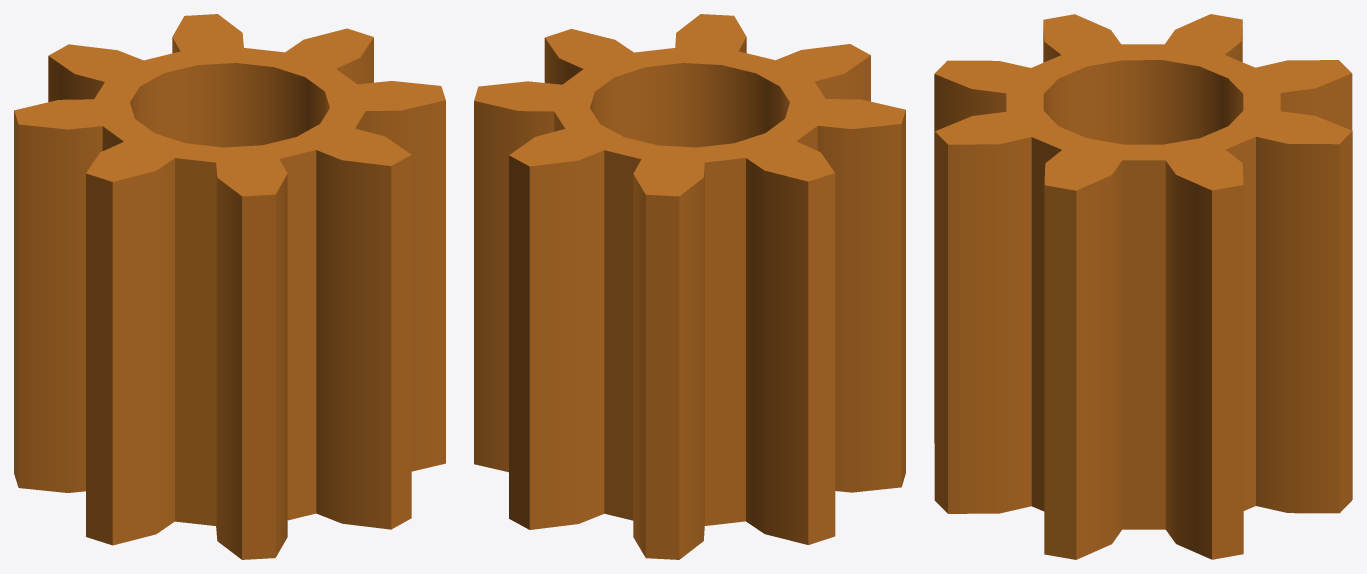
The model's file is gear.obj.
3 renders of one model, left to right at view 1: azimuth 30°, elevation 25°; view 2: azimuth 150°, elevation 25°; view 3: azimuth 270°, elevation 25°, orthographic.
Parts seen in each view (by area): view 1: gear; view 2: gear; view 3: gear.
Part boxes in pixels (box(x1,y1,x2,y2)): gear: box(14, 14, 445, 559); gear: box(474, 14, 905, 559); gear: box(934, 14, 1352, 559).
Size of the model in its own units: 0.00411 by 0.004 by 0.00411.
